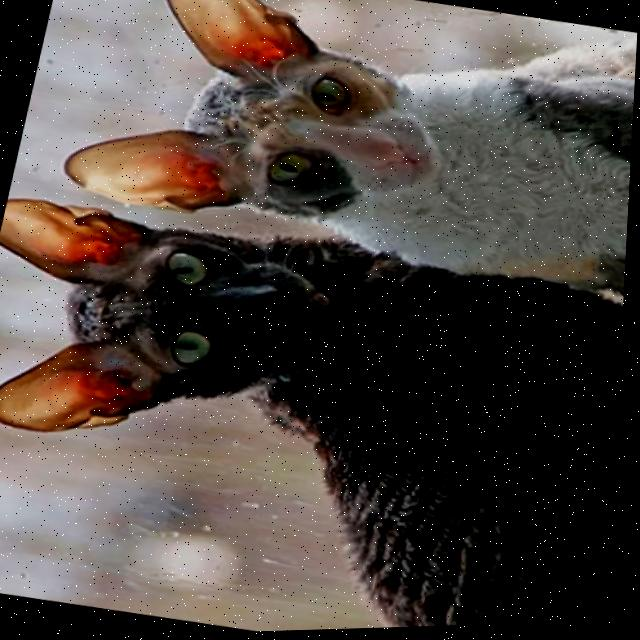Cornish Rex: (0, 173, 632, 640), (43, 0, 640, 318)
